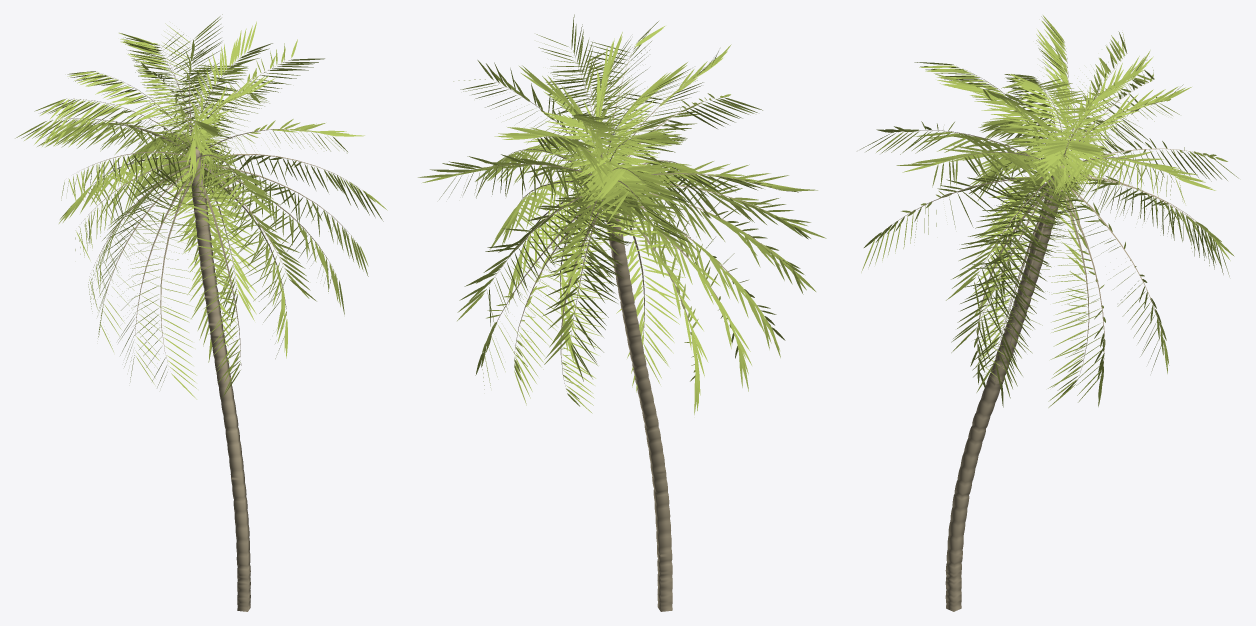
Rendered from palmera.glb.
3 views of the same model, side by side, from view 1: azimuth 30°, elevation 25°; view 2: azimuth 150°, elevation 25°; view 3: azimuth 270°, elevation 25° (orthographic). The views are drawn at different scales.
Parts seen in each view (by area): view 1: palmera; view 2: palmera; view 3: palmera.
Part boxes in pixels (x1,y1,x2,y2): palmera: (15, 14, 387, 611); palmera: (418, 14, 826, 611); palmera: (860, 15, 1238, 611).
Size of the model in its own units: 280 by 460 by 280.
